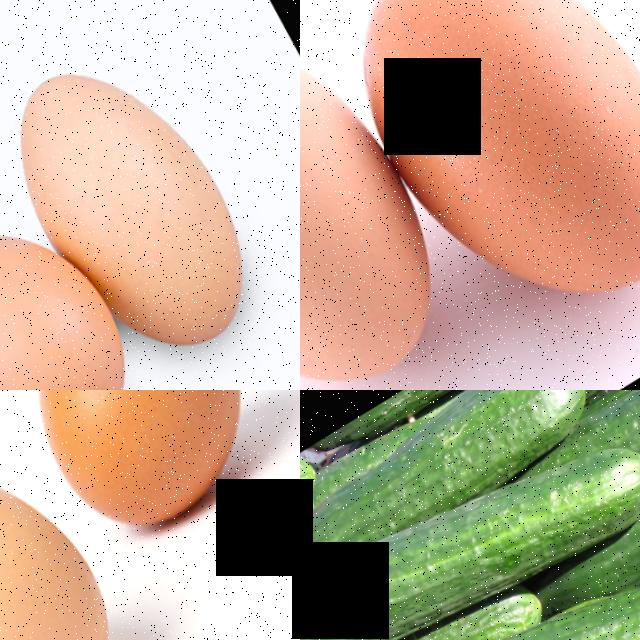cucumber: (300, 393, 640, 640), (300, 390, 602, 640), (358, 476, 640, 640)
egg_: (300, 0, 640, 384), (0, 16, 299, 390), (300, 0, 501, 390), (0, 390, 300, 574), (0, 390, 172, 640), (0, 181, 172, 390)
